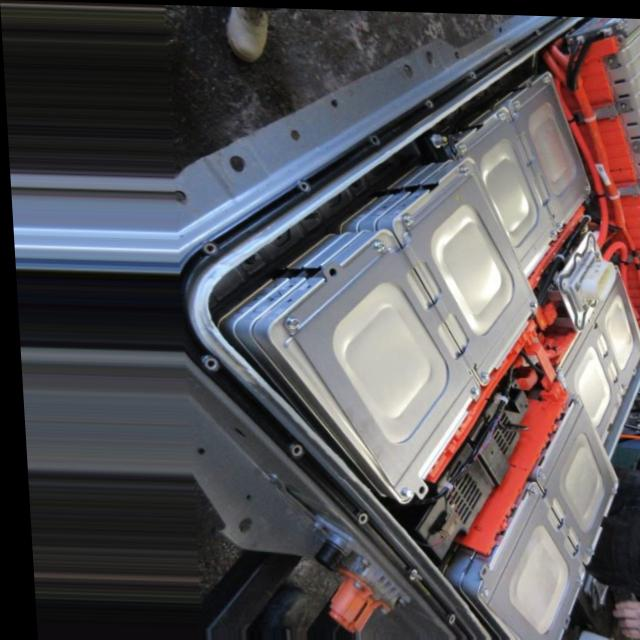Battery Module: (279, 180, 532, 473), (484, 416, 610, 629), (473, 92, 583, 247), (563, 290, 637, 421), (190, 353, 221, 370)
Bolt: (464, 361, 495, 381), (518, 463, 548, 479), (457, 377, 481, 396), (510, 476, 534, 495), (467, 579, 490, 597), (558, 389, 589, 402), (533, 68, 555, 86), (533, 222, 555, 239), (574, 176, 594, 193), (274, 314, 299, 327), (364, 237, 389, 250), (486, 107, 513, 119), (449, 161, 472, 175), (504, 93, 526, 107), (517, 296, 538, 309), (387, 484, 414, 494), (448, 140, 472, 151), (546, 211, 568, 223), (393, 212, 419, 221)
Bus-bar: (458, 320, 579, 549), (417, 346, 518, 479)
Cable: (556, 66, 640, 322)
